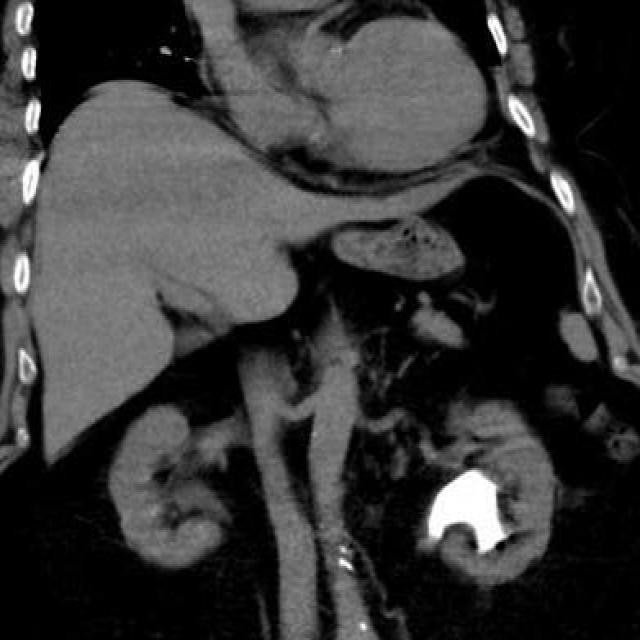Tas_Var: (424, 463, 524, 559)
